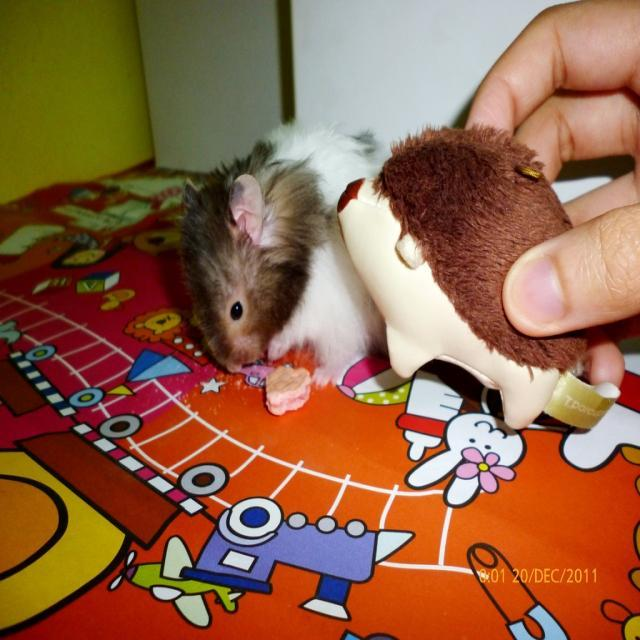rat: (179, 117, 385, 388)
